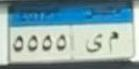5: (26, 34, 40, 52), (55, 34, 68, 50), (12, 35, 24, 52), (42, 34, 52, 50)
meem: (106, 29, 120, 54)
yaa: (85, 32, 103, 54)
